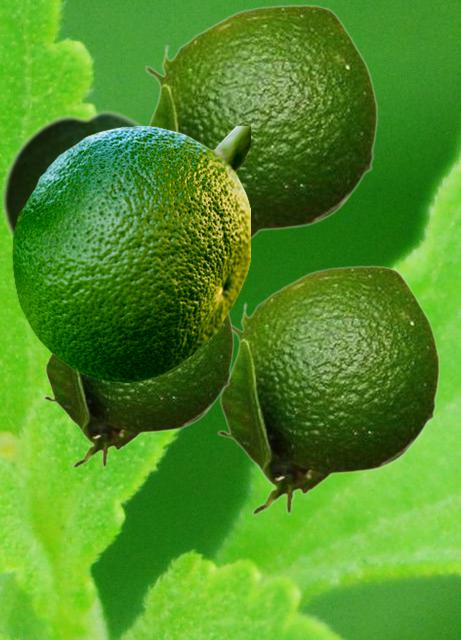dalandan: (12, 126, 249, 381), (216, 265, 439, 515), (144, 4, 377, 240), (42, 315, 233, 468), (0, 107, 145, 247)
